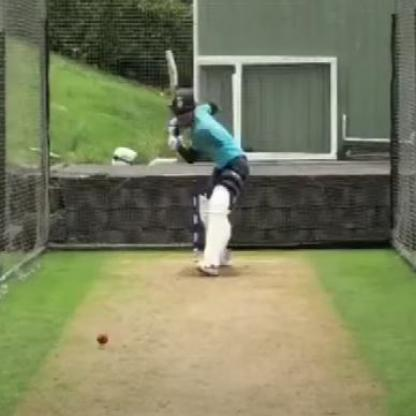ball: (94, 327, 116, 347)
